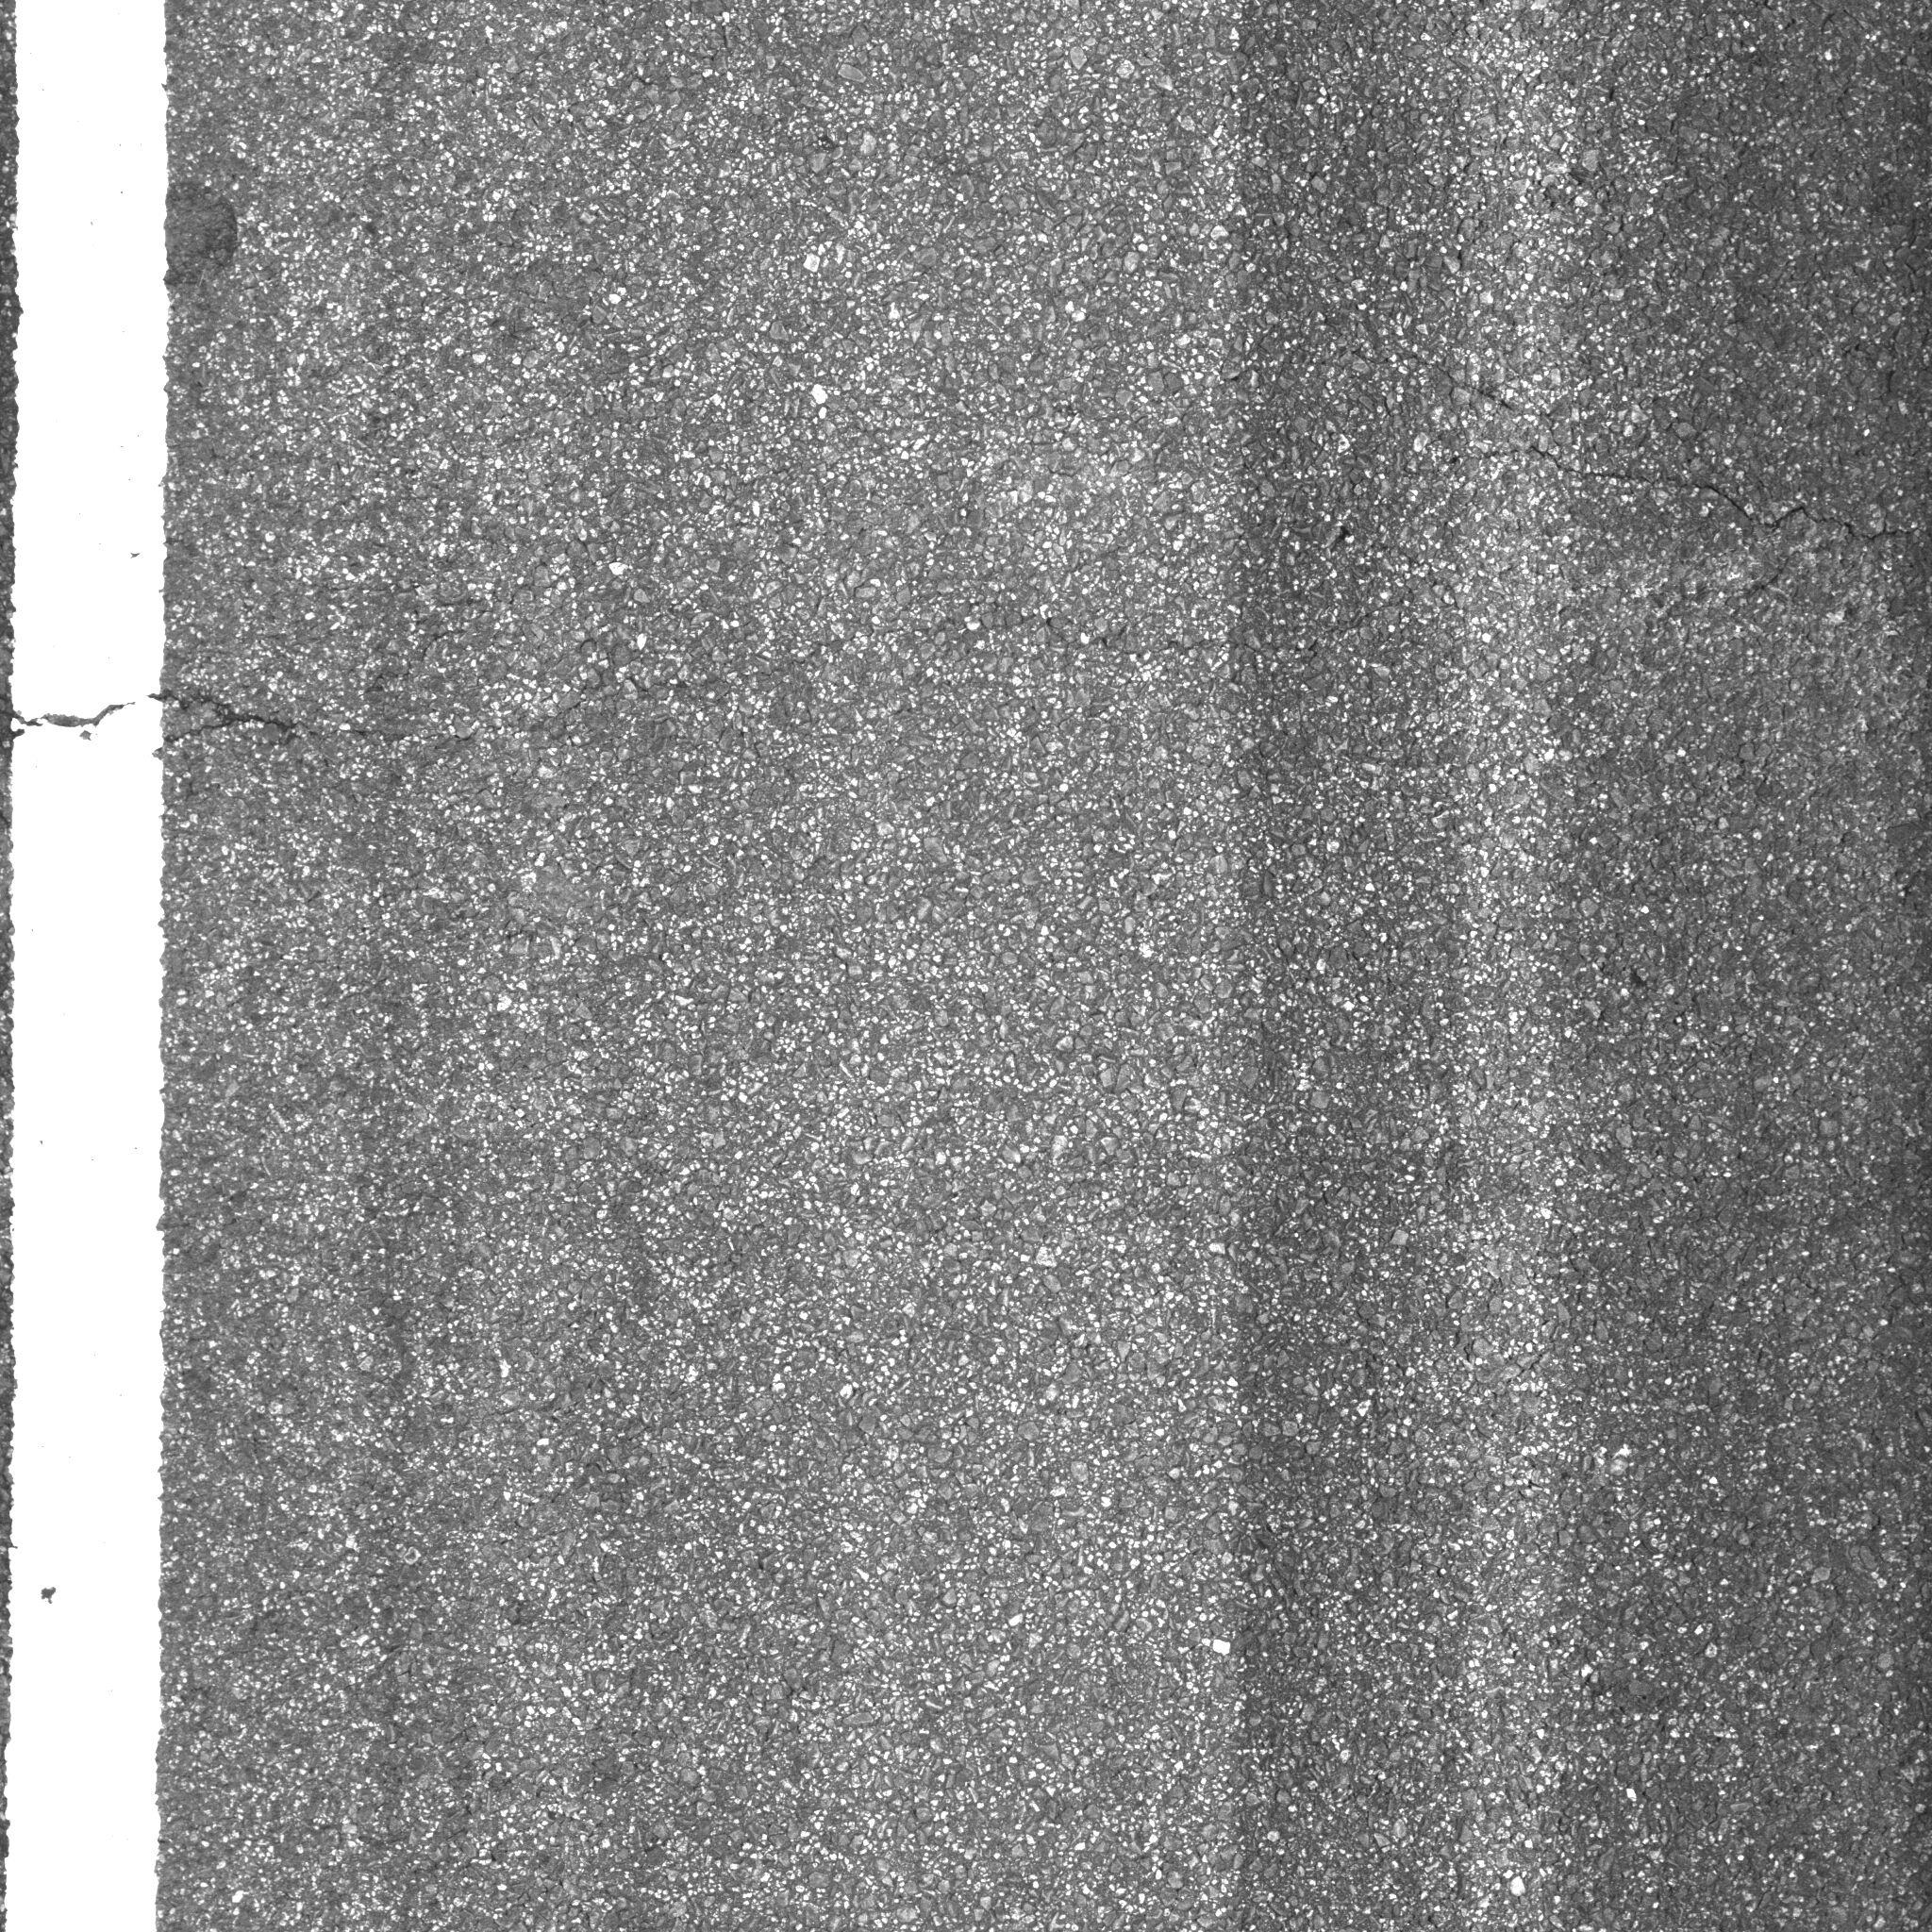transeverse: (21, 637, 920, 812), (1412, 324, 1932, 579)
